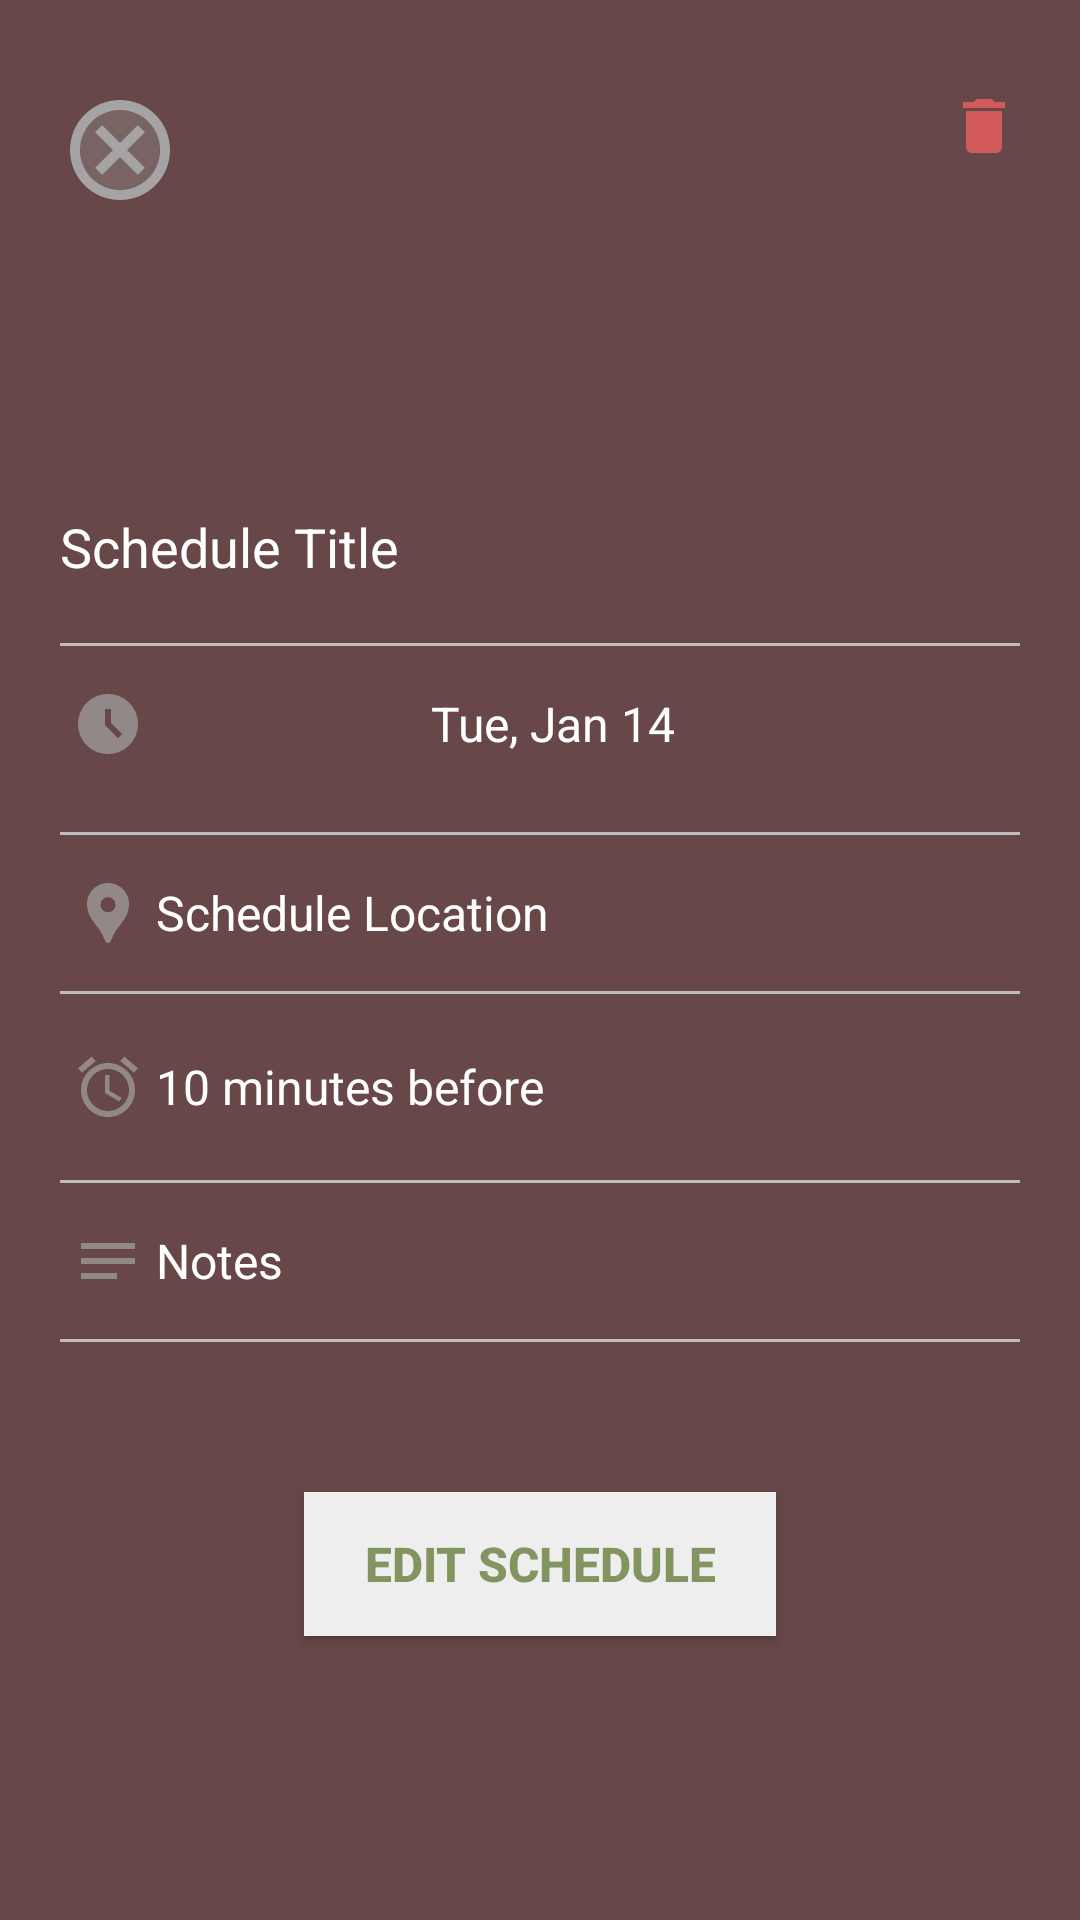

Named icons in this screenshot (1080px×1920px) and their bounding boxes, (x1, y1, x2, y2):
Alarm Icon: (78, 1057, 138, 1117)
cancel: (70, 100, 170, 200)
Time Icon: (78, 694, 138, 754)
